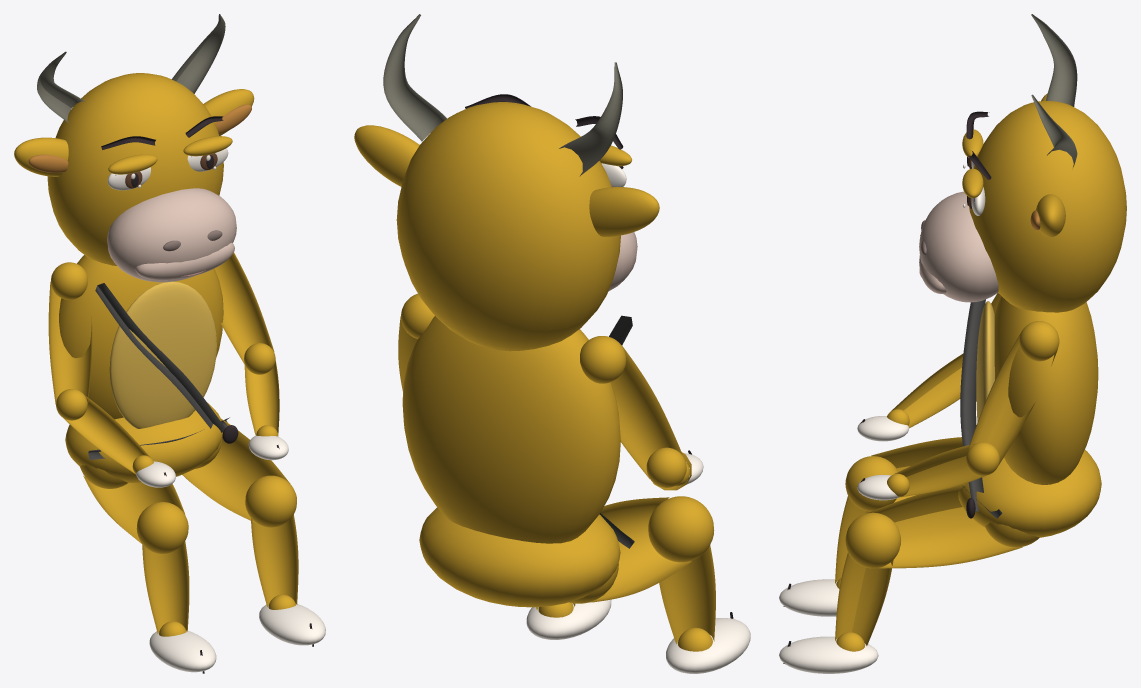
File: niulai.glb
3 views of the same model, side by side, from view 1: azimuth 30°, elevation 25°; view 2: azimuth 150°, elevation 25°; view 3: azimuth 270°, elevation 25° (orthographic). The views are drawn at different scales.
Visible parts, largest first — view 1: batched-character-detail (×7), passenger-niulai, head-rig; view 2: batched-character-detail (×7); view 3: batched-character-detail (×6), passenger-niulai, head-rig.
Part boxes in pixels (x1,y1,x2,y2): batched-character-detail (×7): (14,14,325,672); passenger-niulai: (109,281,216,428); head-rig: (28,104,251,276); batched-character-detail (×7): (354,14,750,673); batched-character-detail (×6): (779,14,1126,673); passenger-niulai: (976,301,994,422); head-rig: (919,129,1040,277).
Bounding box in the file's own units: 0.4449 × 0.9738 × 0.524.
